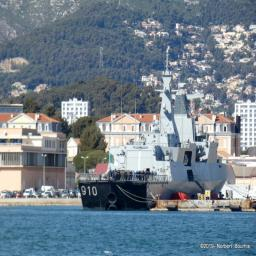Fragata: (78, 46, 232, 215)
